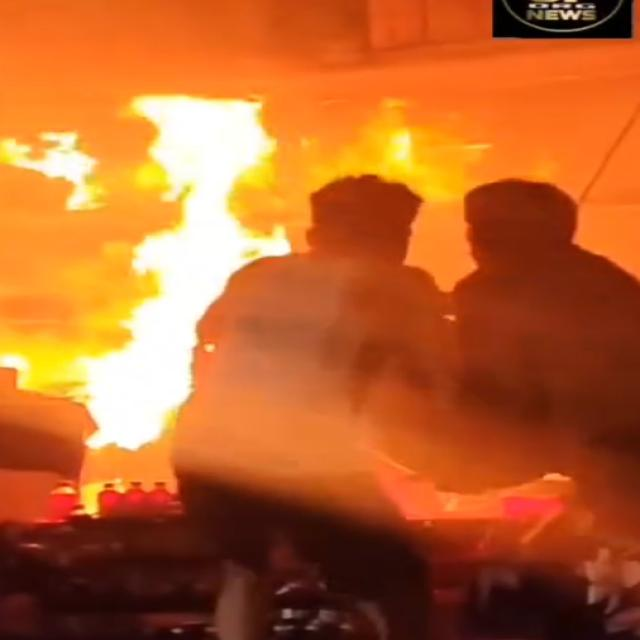fire: (78, 94, 291, 452), (0, 131, 102, 209)
